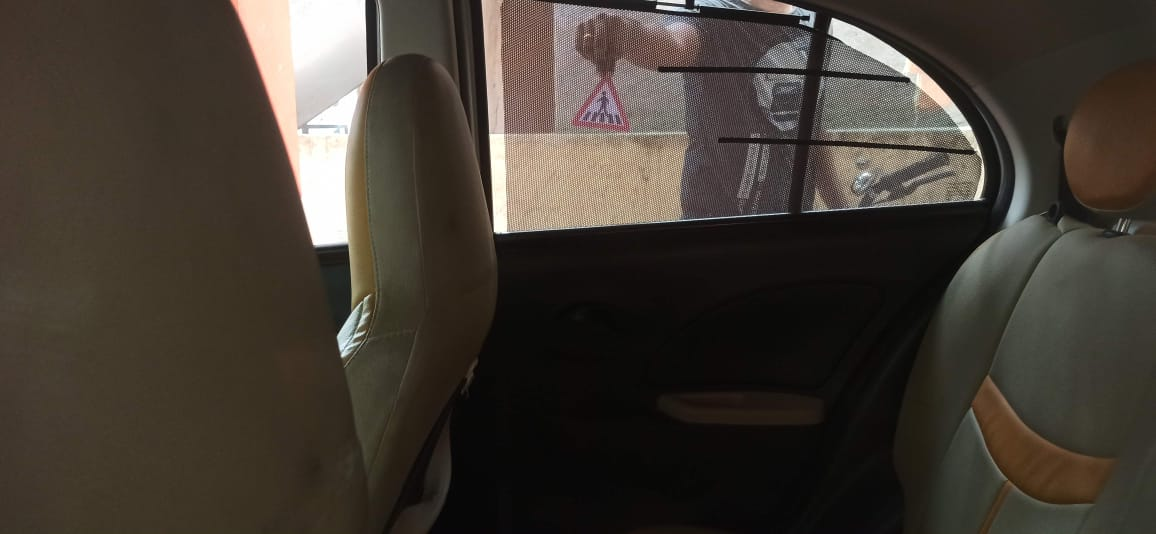PEDESTRIAN CROSSING: (560, 69, 635, 137)
